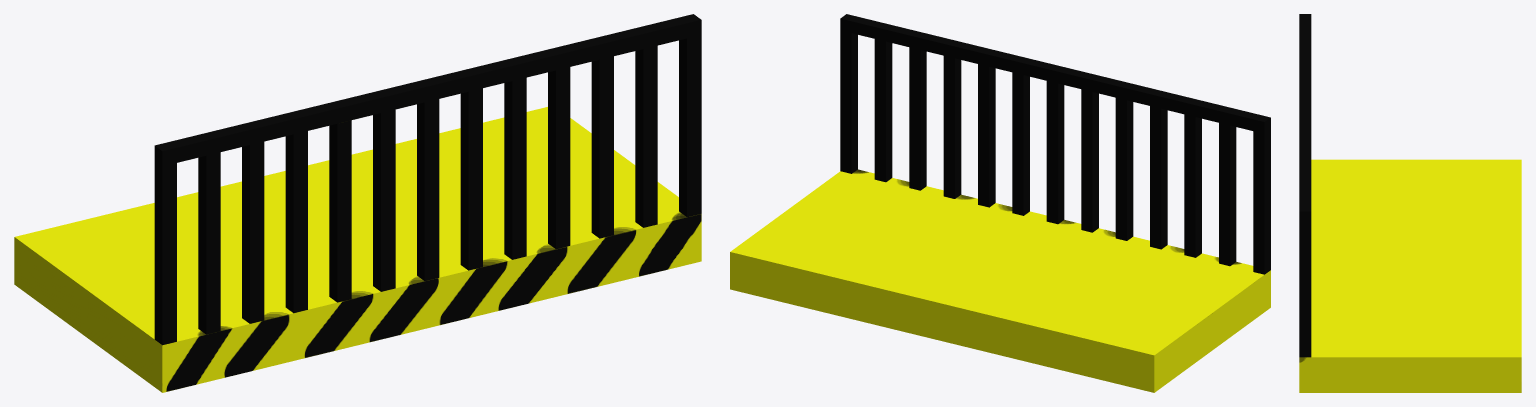
The model's file is Platform.fbx.
The picture shows the model from 3 angles, left to right: view 1: azimuth 30°, elevation 25°; view 2: azimuth 150°, elevation 25°; view 3: azimuth 270°, elevation 25°; orthographic projection. The views are drawn at different scales.
Visible parts, largest first — view 1: Platform Base, Platform TopRail, Platform Rail014, Platform Rail004, Platform Rail008, Platform Rail005, Platform Rail009, Platform Rail001, Platform Rail012, Platform Rail002, Platform Rail010, Platform Rail013 (+3 smaller); view 2: Platform Base, Platform TopRail, Platform Rail002, Platform Rail008, Platform Rail010, Platform Rail004, Platform Rail014, Platform Rail001, Platform Rail007, Platform Rail003, Platform Rail009, Platform Rail012 (+3 smaller); view 3: Platform Base, Platform TopRail, Platform Rail001.
Boxes of the visible parts, <box> form: Platform Base: <box>14,107,701,392</box>; Platform TopRail: <box>154,14,701,166</box>; Platform Rail014: <box>154,161,176,345</box>; Platform Rail004: <box>548,67,570,248</box>; Platform Rail008: <box>417,99,439,280</box>; Platform Rail005: <box>504,77,526,259</box>; Platform Rail009: <box>373,109,395,291</box>; Platform Rail001: <box>679,35,701,217</box>; Platform Rail012: <box>242,141,264,323</box>; Platform Rail002: <box>635,45,657,227</box>; Platform Rail010: <box>329,120,351,302</box>; Platform Rail013: <box>198,152,220,334</box>; Platform Base: <box>730,169,1270,392</box>; Platform TopRail: <box>840,14,1270,133</box>; Platform Rail002: <box>874,39,892,182</box>; Platform Rail008: <box>1046,81,1064,224</box>; Platform Rail010: <box>1115,97,1133,240</box>; Platform Rail004: <box>943,56,961,198</box>; Platform Rail014: <box>1253,129,1270,274</box>; Platform Rail001: <box>840,30,857,173</box>; Platform Rail007: <box>1012,72,1029,215</box>; Platform Rail003: <box>909,47,926,190</box>; Platform Rail009: <box>1081,89,1098,232</box>; Platform Rail012: <box>1184,114,1201,257</box>; Platform Base: <box>1299,159,1521,392</box>; Platform TopRail: <box>1299,14,1311,222</box>; Platform Rail001: <box>1299,223,1311,357</box>.
Bounding box in the file's own units: 94.61 × 40.53 × 45.
Materials: 1 (1 with a texture image).
